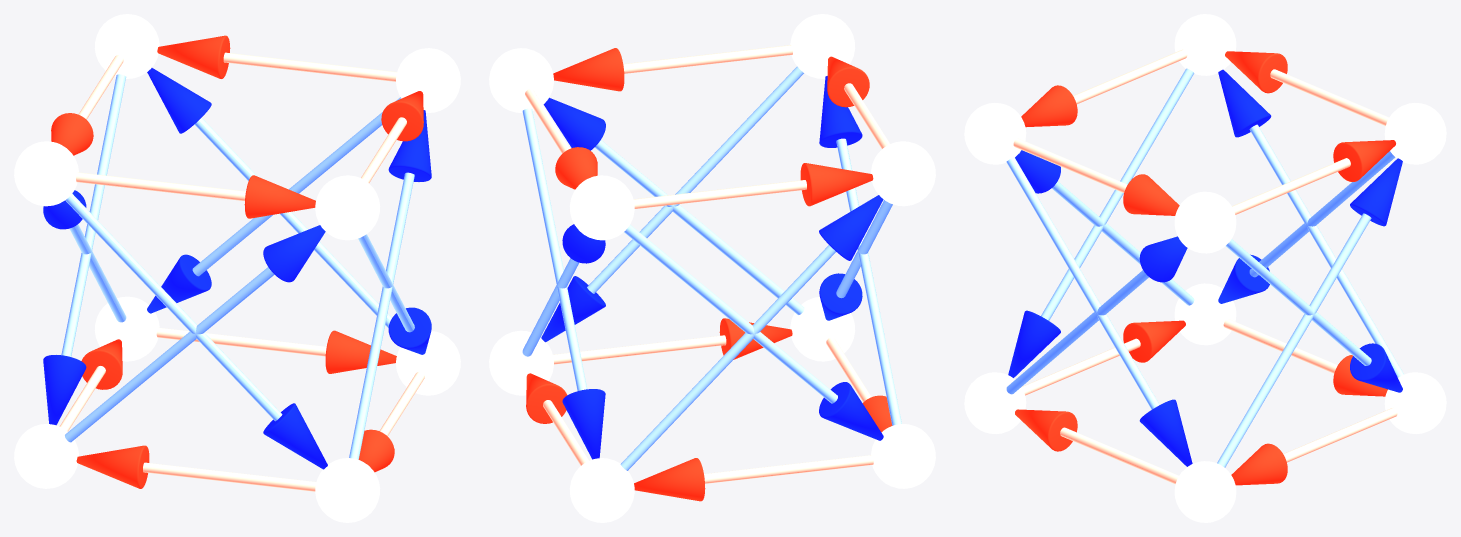
The picture shows the model from 3 angles, left to right: view 1: azimuth 30°, elevation 25°; view 2: azimuth 150°, elevation 25°; view 3: azimuth 270°, elevation 25°; orthographic projection. The views are drawn at different scales.
Visible parts, largest first — view 1: Arrow1.009, Sphere1.0002, Sphere2.0002, Sphere1.0001, Sphere2.0001, Vertical.013, Sphere1.0000, Sphere1.0003, Vertical.014, Sphere2.0000, Vertical.010, Vertical.011 (+25 smaller); view 2: Arrow1.009, Sphere1.0000, Sphere1.0001, Sphere2.0000, Sphere2.0001, Sphere1.0003, Vertical.016, Sphere1.0002, Vertical.015, Vertical.008, Sphere2.0003, Vertical.011 (+25 smaller); view 3: Arrow1.009, Sphere2.0003, Sphere1.0003, Sphere1.0000, Sphere1.0002, Sphere1.0001, Vertical.012, Sphere2.0002, Vertical.008, Sphere2.0000, Vertical.013, Sphere2.0001 (+25 smaller).
Boxes of the visible parts, left/top/right/bottom form: Arrow1.009: left=43, top=254, right=431, bottom=469; Sphere1.0002: left=315, top=175, right=380, bottom=240; Sphere2.0002: left=315, top=458, right=380, bottom=522; Sphere1.0001: left=14, top=141, right=78, bottom=206; Sphere2.0001: left=14, top=424, right=78, bottom=488; Vertical.013: left=65, top=193, right=282, bottom=421; Sphere1.0000: left=94, top=14, right=159, bottom=78; Sphere1.0003: left=396, top=48, right=460, bottom=112; Vertical.014: left=349, top=172, right=414, bottom=459; Sphere2.0000: left=94, top=296, right=159, bottom=361; Vertical.010: left=65, top=267, right=274, bottom=442; Vertical.011: left=61, top=74, right=126, bottom=356; Arrow1.009: left=541, top=273, right=883, bottom=459; Sphere1.0000: left=569, top=175, right=634, bottom=240; Sphere1.0001: left=871, top=141, right=935, bottom=206; Sphere2.0000: left=569, top=458, right=634, bottom=522; Sphere2.0001: left=871, top=424, right=935, bottom=488; Sphere1.0003: left=489, top=48, right=553, bottom=112; Vertical.016: left=620, top=245, right=835, bottom=470; Sphere1.0002: left=790, top=14, right=855, bottom=78; Vertical.015: left=522, top=108, right=587, bottom=390; Vertical.008: left=587, top=66, right=803, bottom=293; Sphere2.0003: left=489, top=330, right=553, bottom=395; Vertical.011: left=624, top=224, right=837, bottom=403; Arrow1.009: left=1008, top=254, right=1402, bottom=466; Sphere2.0003: left=1174, top=461, right=1236, bottom=522; Sphere1.0003: left=1174, top=191, right=1236, bottom=253; Sphere1.0000: left=1384, top=103, right=1446, bottom=164; Sphere1.0002: left=964, top=103, right=1026, bottom=164; Sphere1.0001: left=1174, top=14, right=1236, bottom=75; Vertical.012: left=1217, top=213, right=1371, bottom=467; Sphere2.0002: left=964, top=372, right=1026, bottom=433; Vertical.008: left=1006, top=157, right=1159, bottom=409; Sphere2.0000: left=1384, top=372, right=1446, bottom=433; Vertical.013: left=1041, top=68, right=1194, bottom=320; Sphere2.0001: left=1174, top=283, right=1236, bottom=345.
Size of the model in its own units: 1.01 by 0.752 by 1.01.
